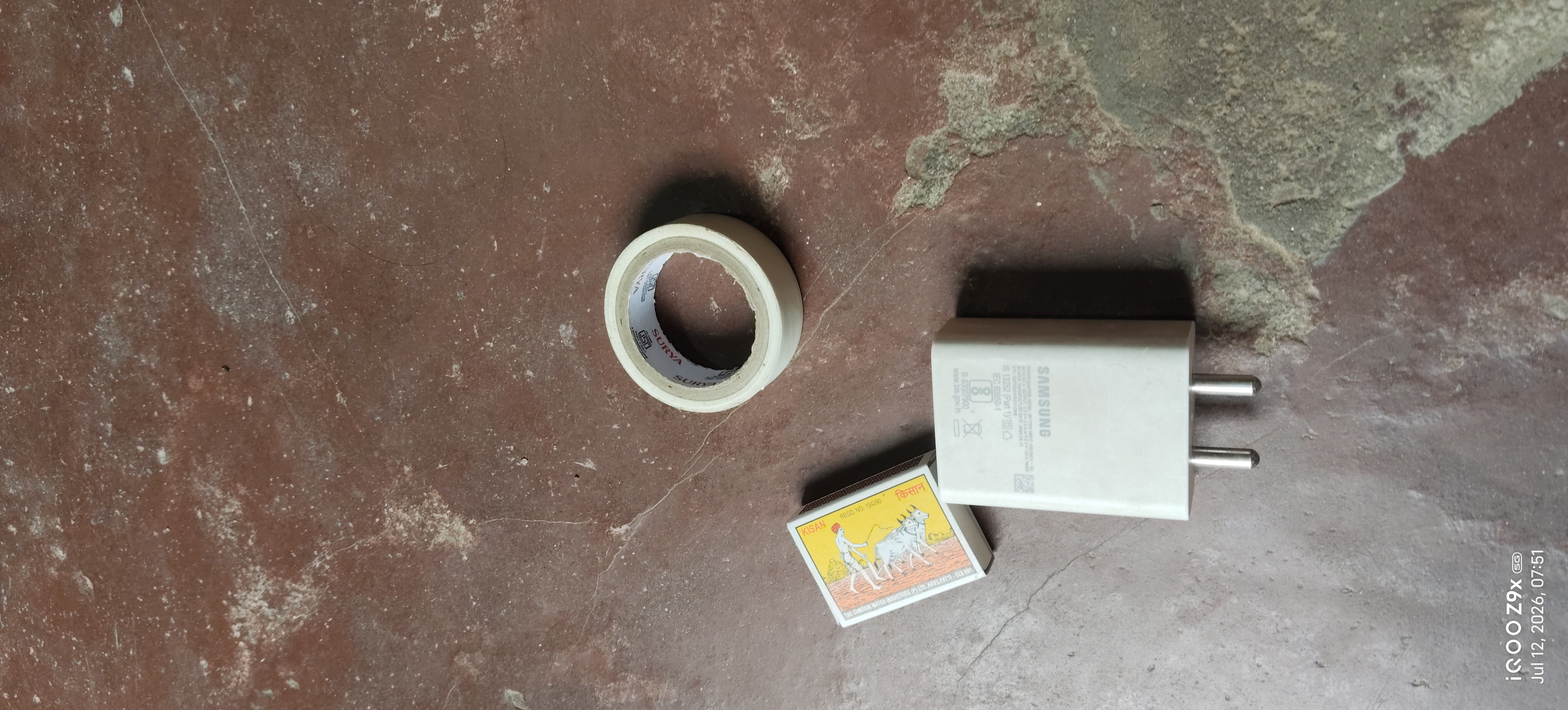charger: (921, 298, 1281, 538)
matchbox: (746, 455, 1028, 632)
tape_roll: (568, 211, 822, 443)
